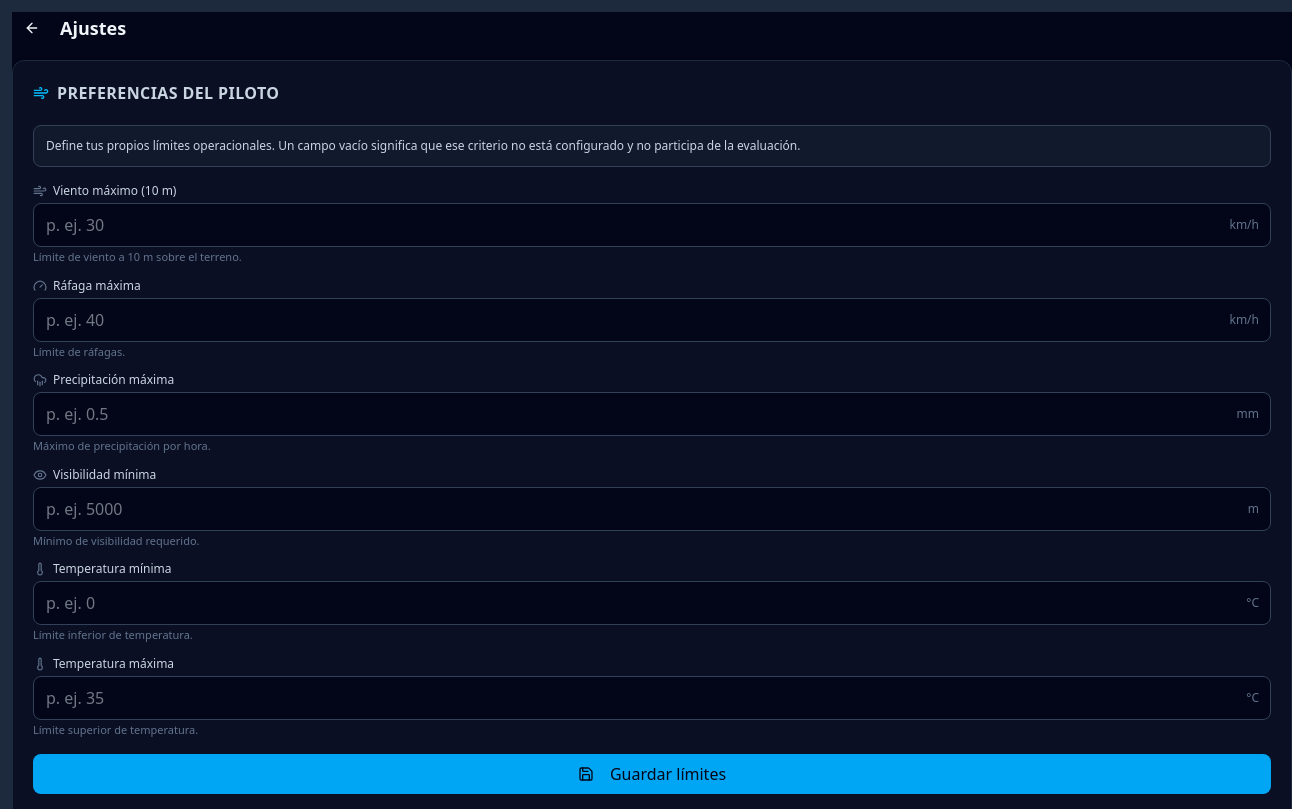
Scenario: SettingsPage › shows an inline error when persistence fails
The width and height of the screenshot is (1292, 809).
Expected: the field labelled "Viento máximo (10 m)" is shown, [33, 203, 1271, 247]
Click the button "Guardar límites".
click(652, 774)  # box [33, 754, 1271, 794]
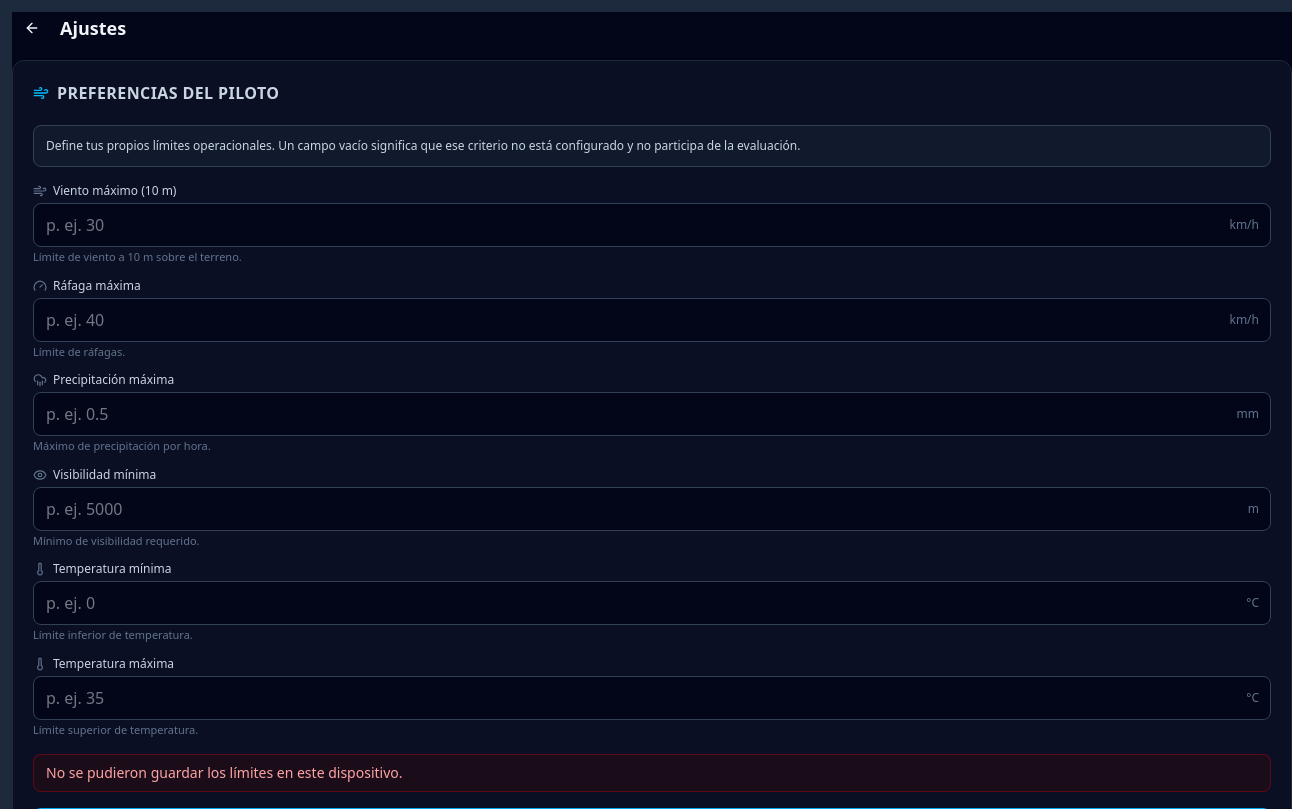
Expected: the text "No se pudieron guardar los límites en este dispositivo." is shown, [33, 754, 1271, 792]
